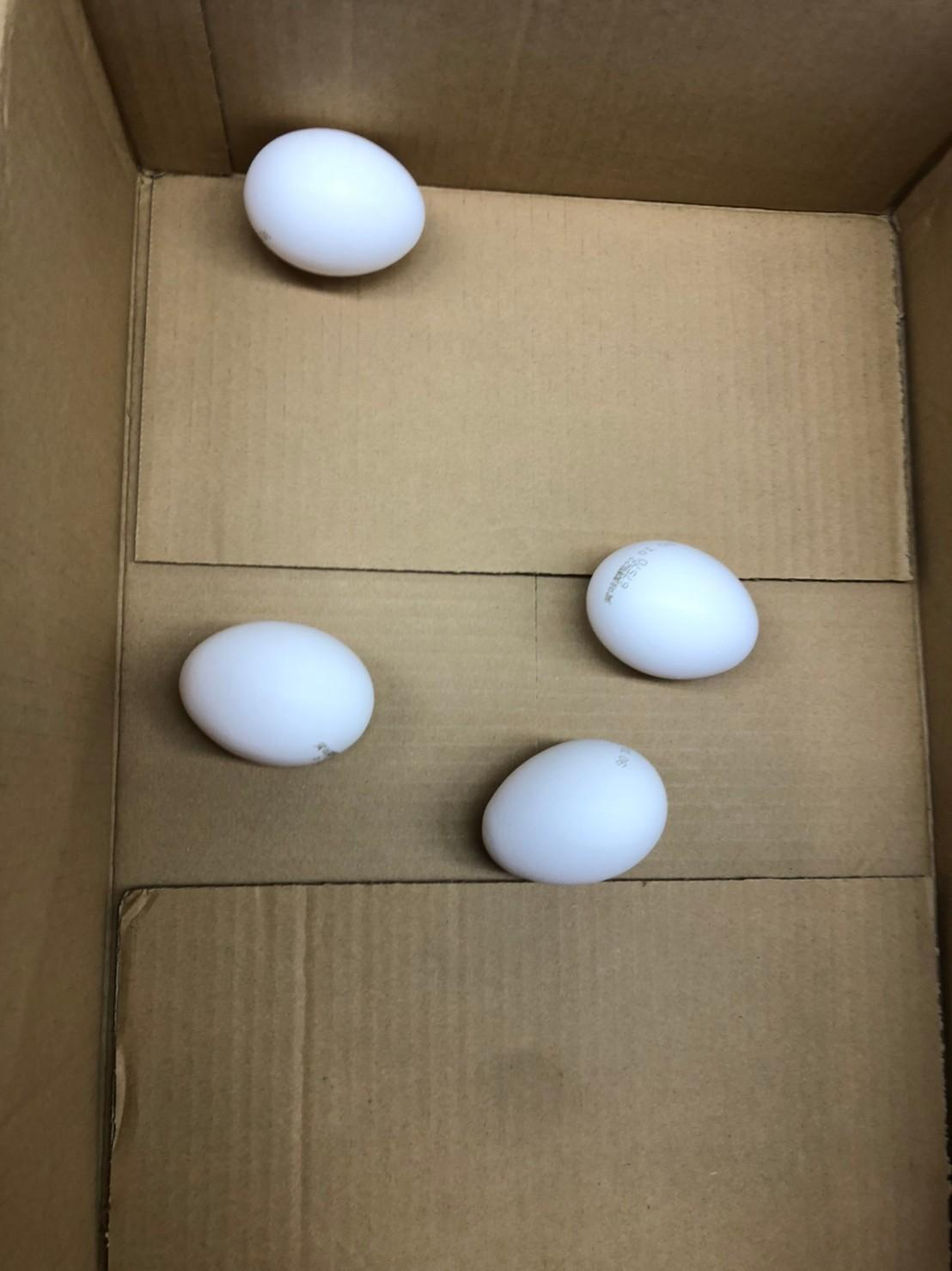egg: (232, 117, 431, 283), (171, 615, 386, 768), (476, 732, 674, 889), (581, 530, 763, 685)
